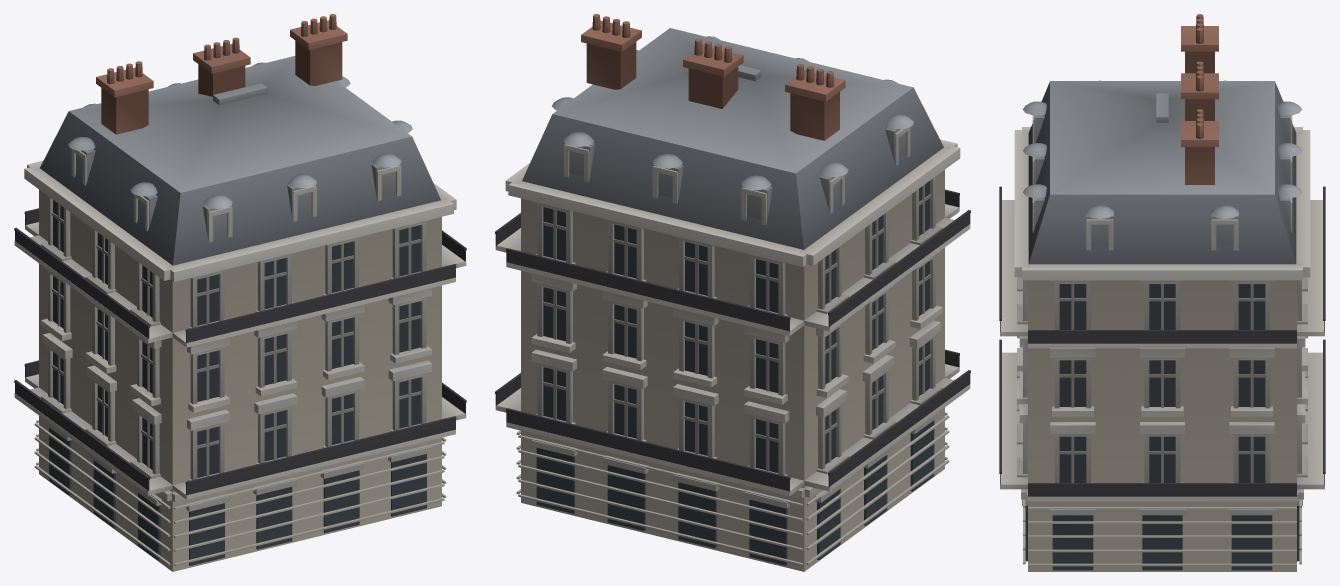
The model's file is house_industrial_2.glb.
3 renders of one model, left to right at view 1: azimuth 30°, elevation 25°; view 2: azimuth 150°, elevation 25°; view 3: azimuth 270°, elevation 25°, orthographic. The views are drawn at different scales.
Parts seen in each view (by area): view 1: Body_Detail, Body_Wall; view 2: Body_Detail, Body_Wall; view 3: Body_Detail, Body_Wall.
Part boxes in pixels (left/top/right/bottom): Body_Detail: left=14, top=14, right=466, bottom=565; Body_Wall: left=39, top=189, right=441, bottom=571; Body_Detail: left=495, top=14, right=970, bottom=565; Body_Wall: left=521, top=170, right=944, bottom=571; Body_Detail: left=999, top=14, right=1325, bottom=570; Body_Wall: left=1028, top=280, right=1296, bottom=571.
Bounding box in the file's own units: 1.18 × 1.54 × 1.04.
